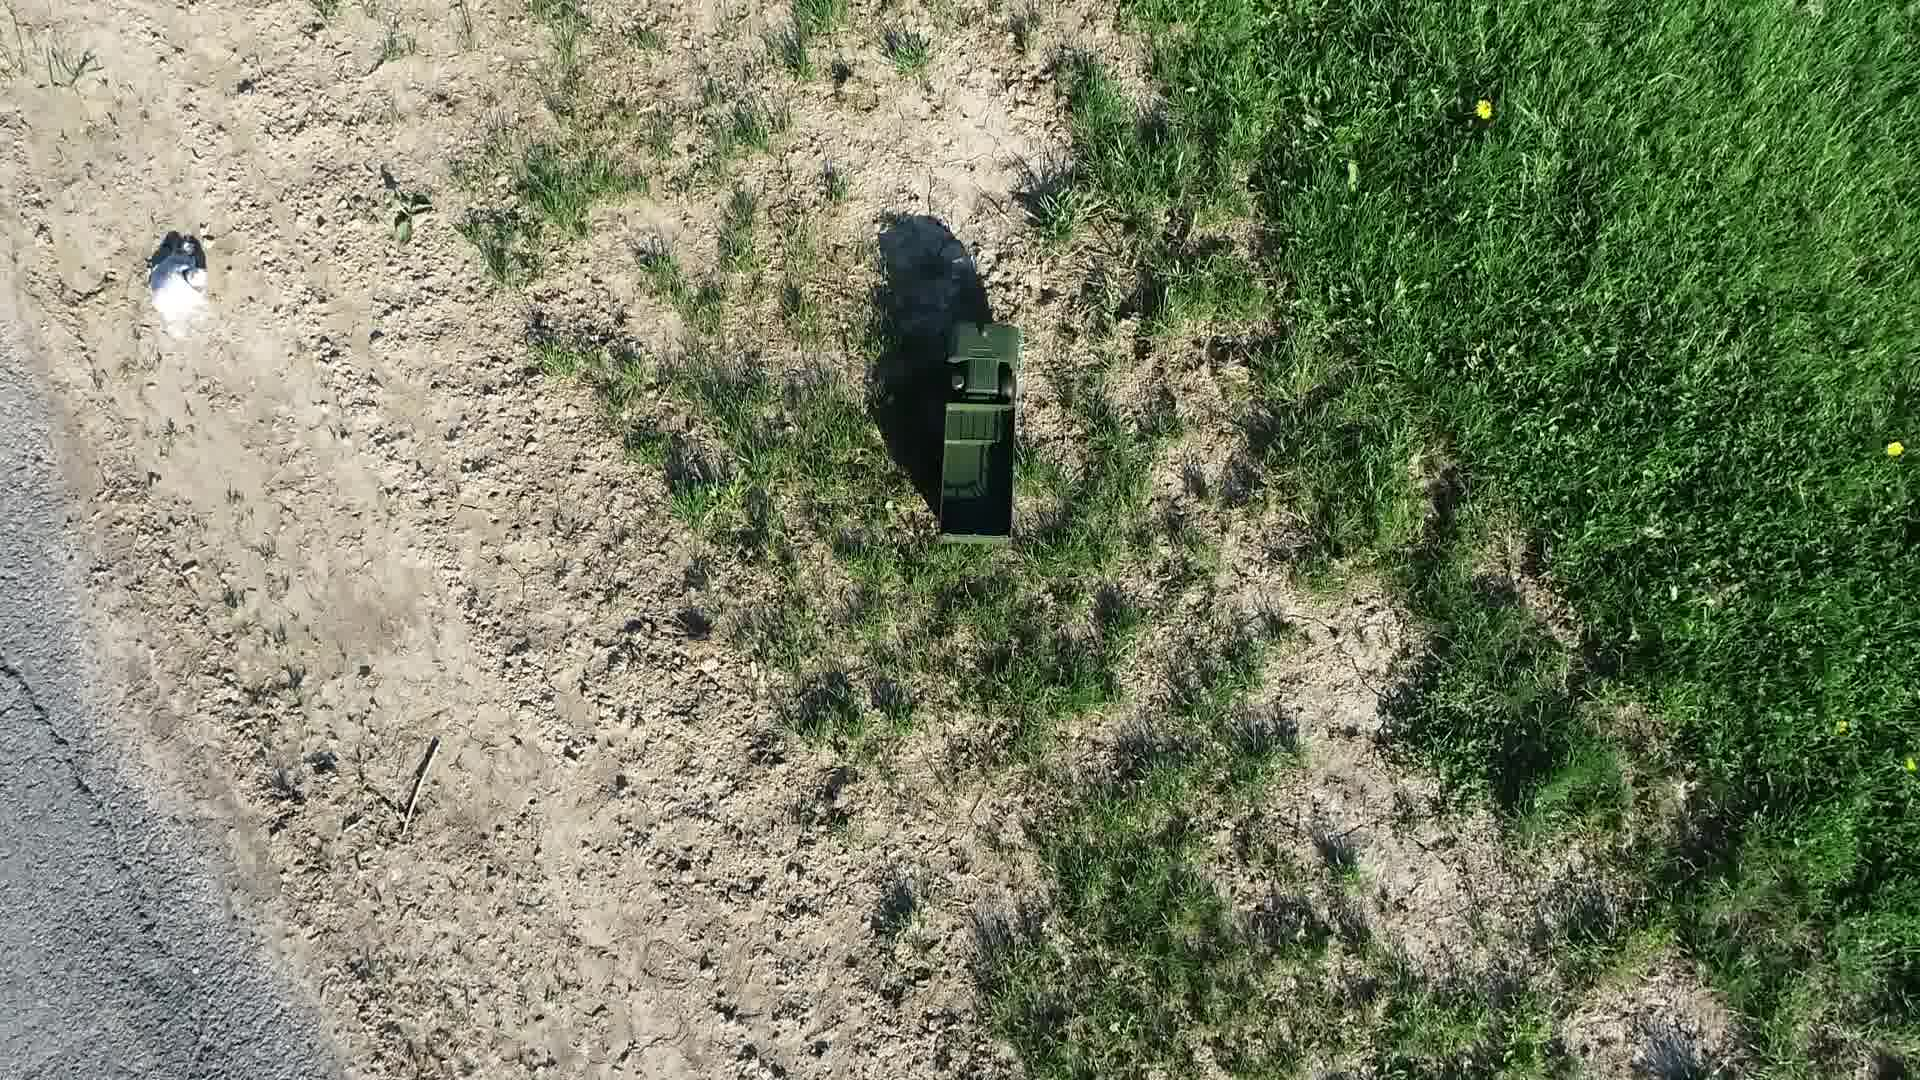transporter9: (934, 311, 1036, 556)
